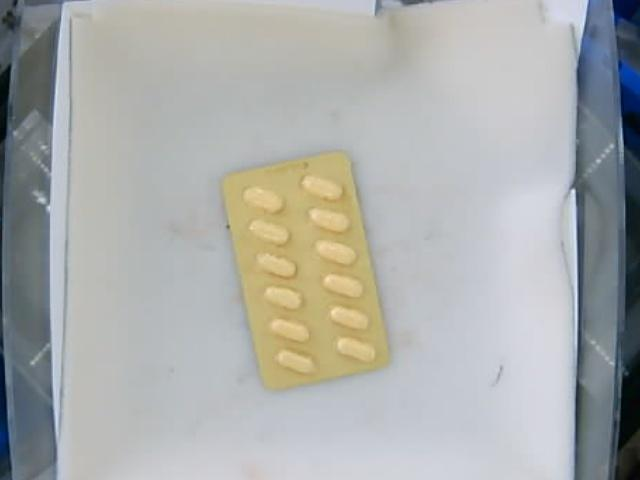Medicine: (218, 149, 392, 388)
